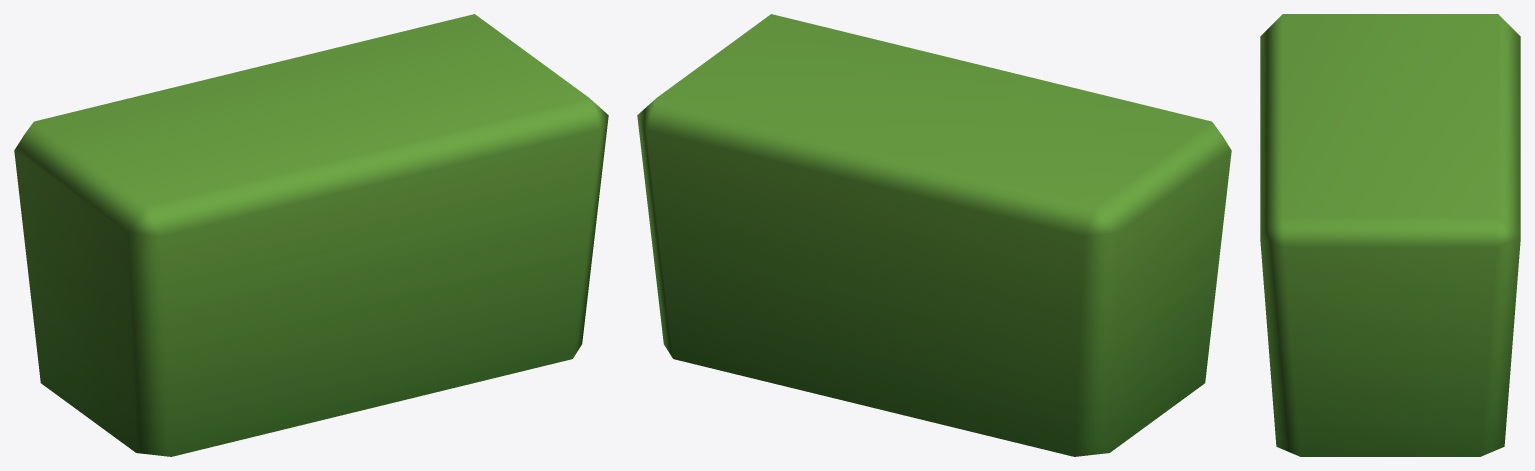
File: Bush_10.glb
3 renders of one model, left to right at view 1: azimuth 30°, elevation 25°; view 2: azimuth 150°, elevation 25°; view 3: azimuth 270°, elevation 25°, orthographic. The views are drawn at different scales.
Parts seen in each view (by area): view 1: Bush_10; view 2: Bush_10; view 3: Bush_10.
Boxes of the visible parts, x1,y1,x2,y2 form: Bush_10: (14, 14, 608, 456); Bush_10: (637, 14, 1231, 456); Bush_10: (1260, 14, 1520, 456).
Bounding box in the file's own units: 1.99 × 1 × 0.9876.
Materials: 1 (1 with a texture image).
